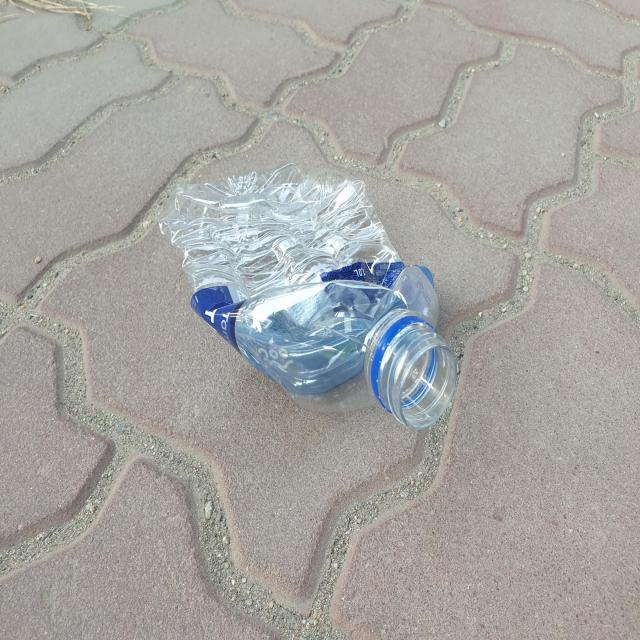plastic: (159, 164, 457, 430)
